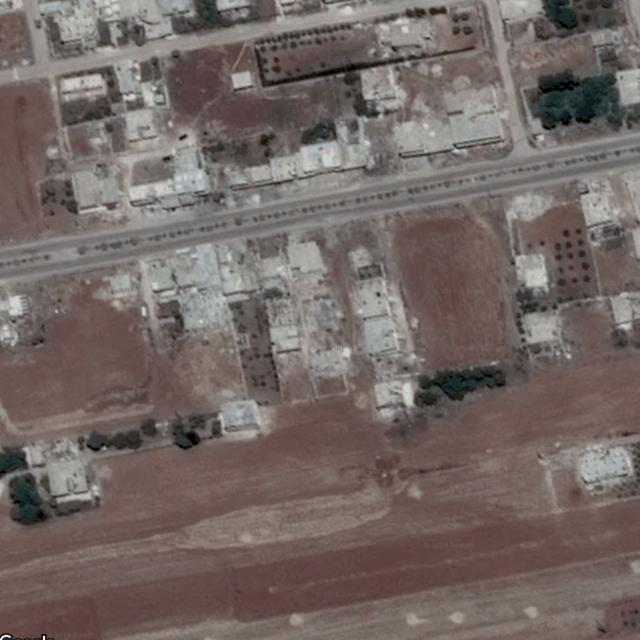damaged_building: (300, 296, 351, 380), (502, 186, 566, 222)
